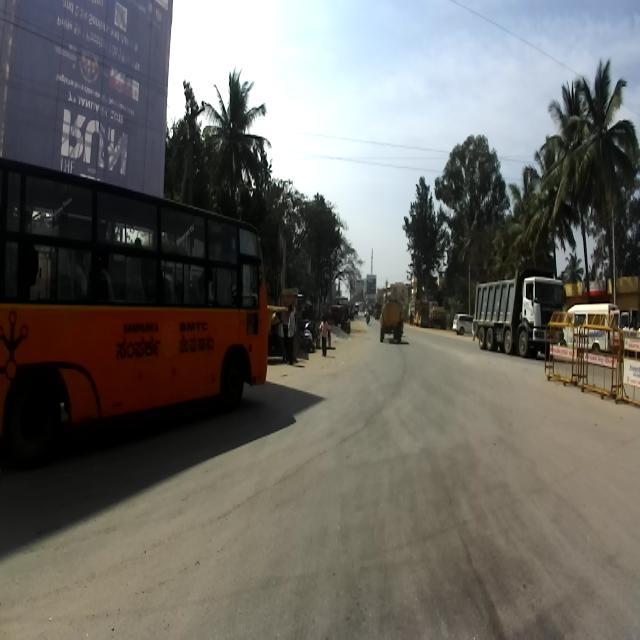bus ahead at: (0, 168, 276, 456)
